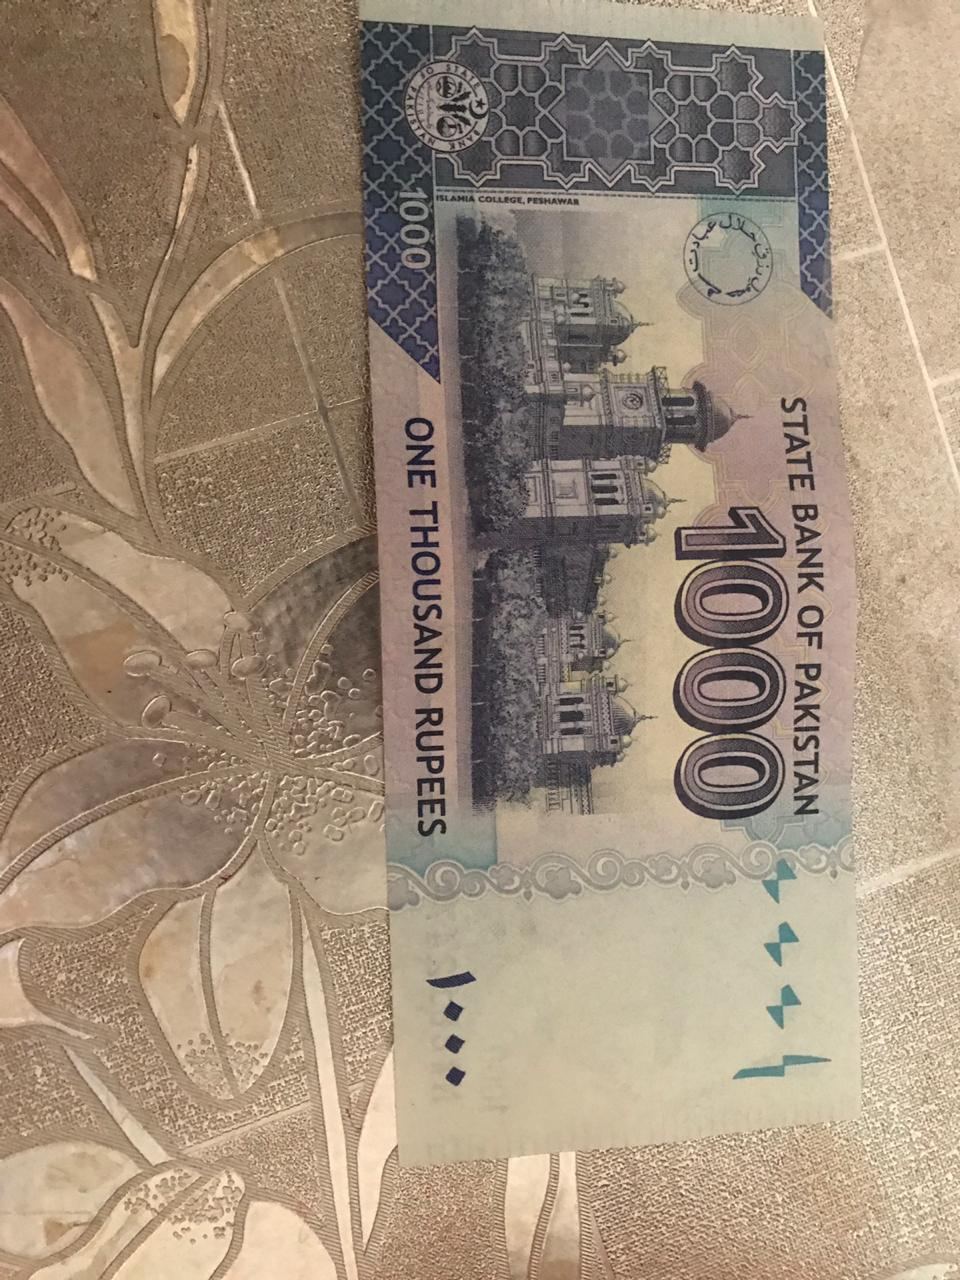1000 rupee: (333, 27, 878, 1171)
